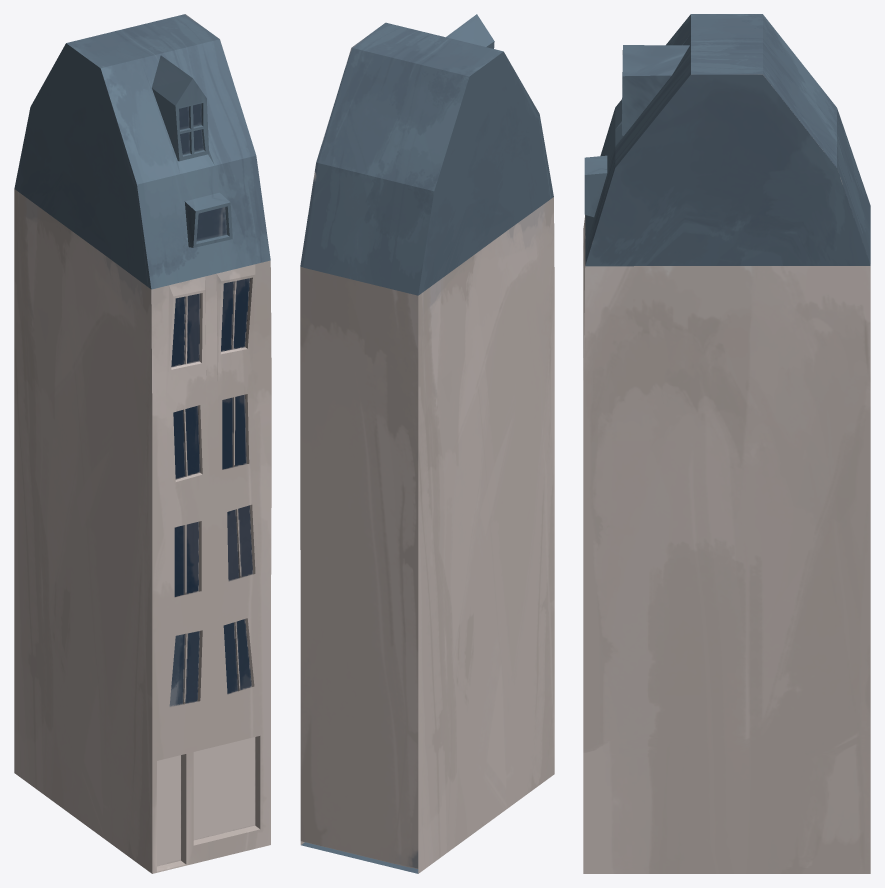
The model's file is Immeuble001.fbx.
3 renders of one model, left to right at view 1: azimuth 30°, elevation 25°; view 2: azimuth 150°, elevation 25°; view 3: azimuth 270°, elevation 25°, orthographic. The views are drawn at different scales.
Parts seen in each view (by area): view 1: Immeuble001; view 2: Immeuble001; view 3: Immeuble001.
Part boxes in pixels (x1,y1,x2,y2): Immeuble001: [14, 14, 271, 873]; Immeuble001: [300, 14, 554, 873]; Immeuble001: [583, 14, 870, 873].
Bounding box in the file's own units: 4 × 24.59 × 8.
1 material, 1 textured.
